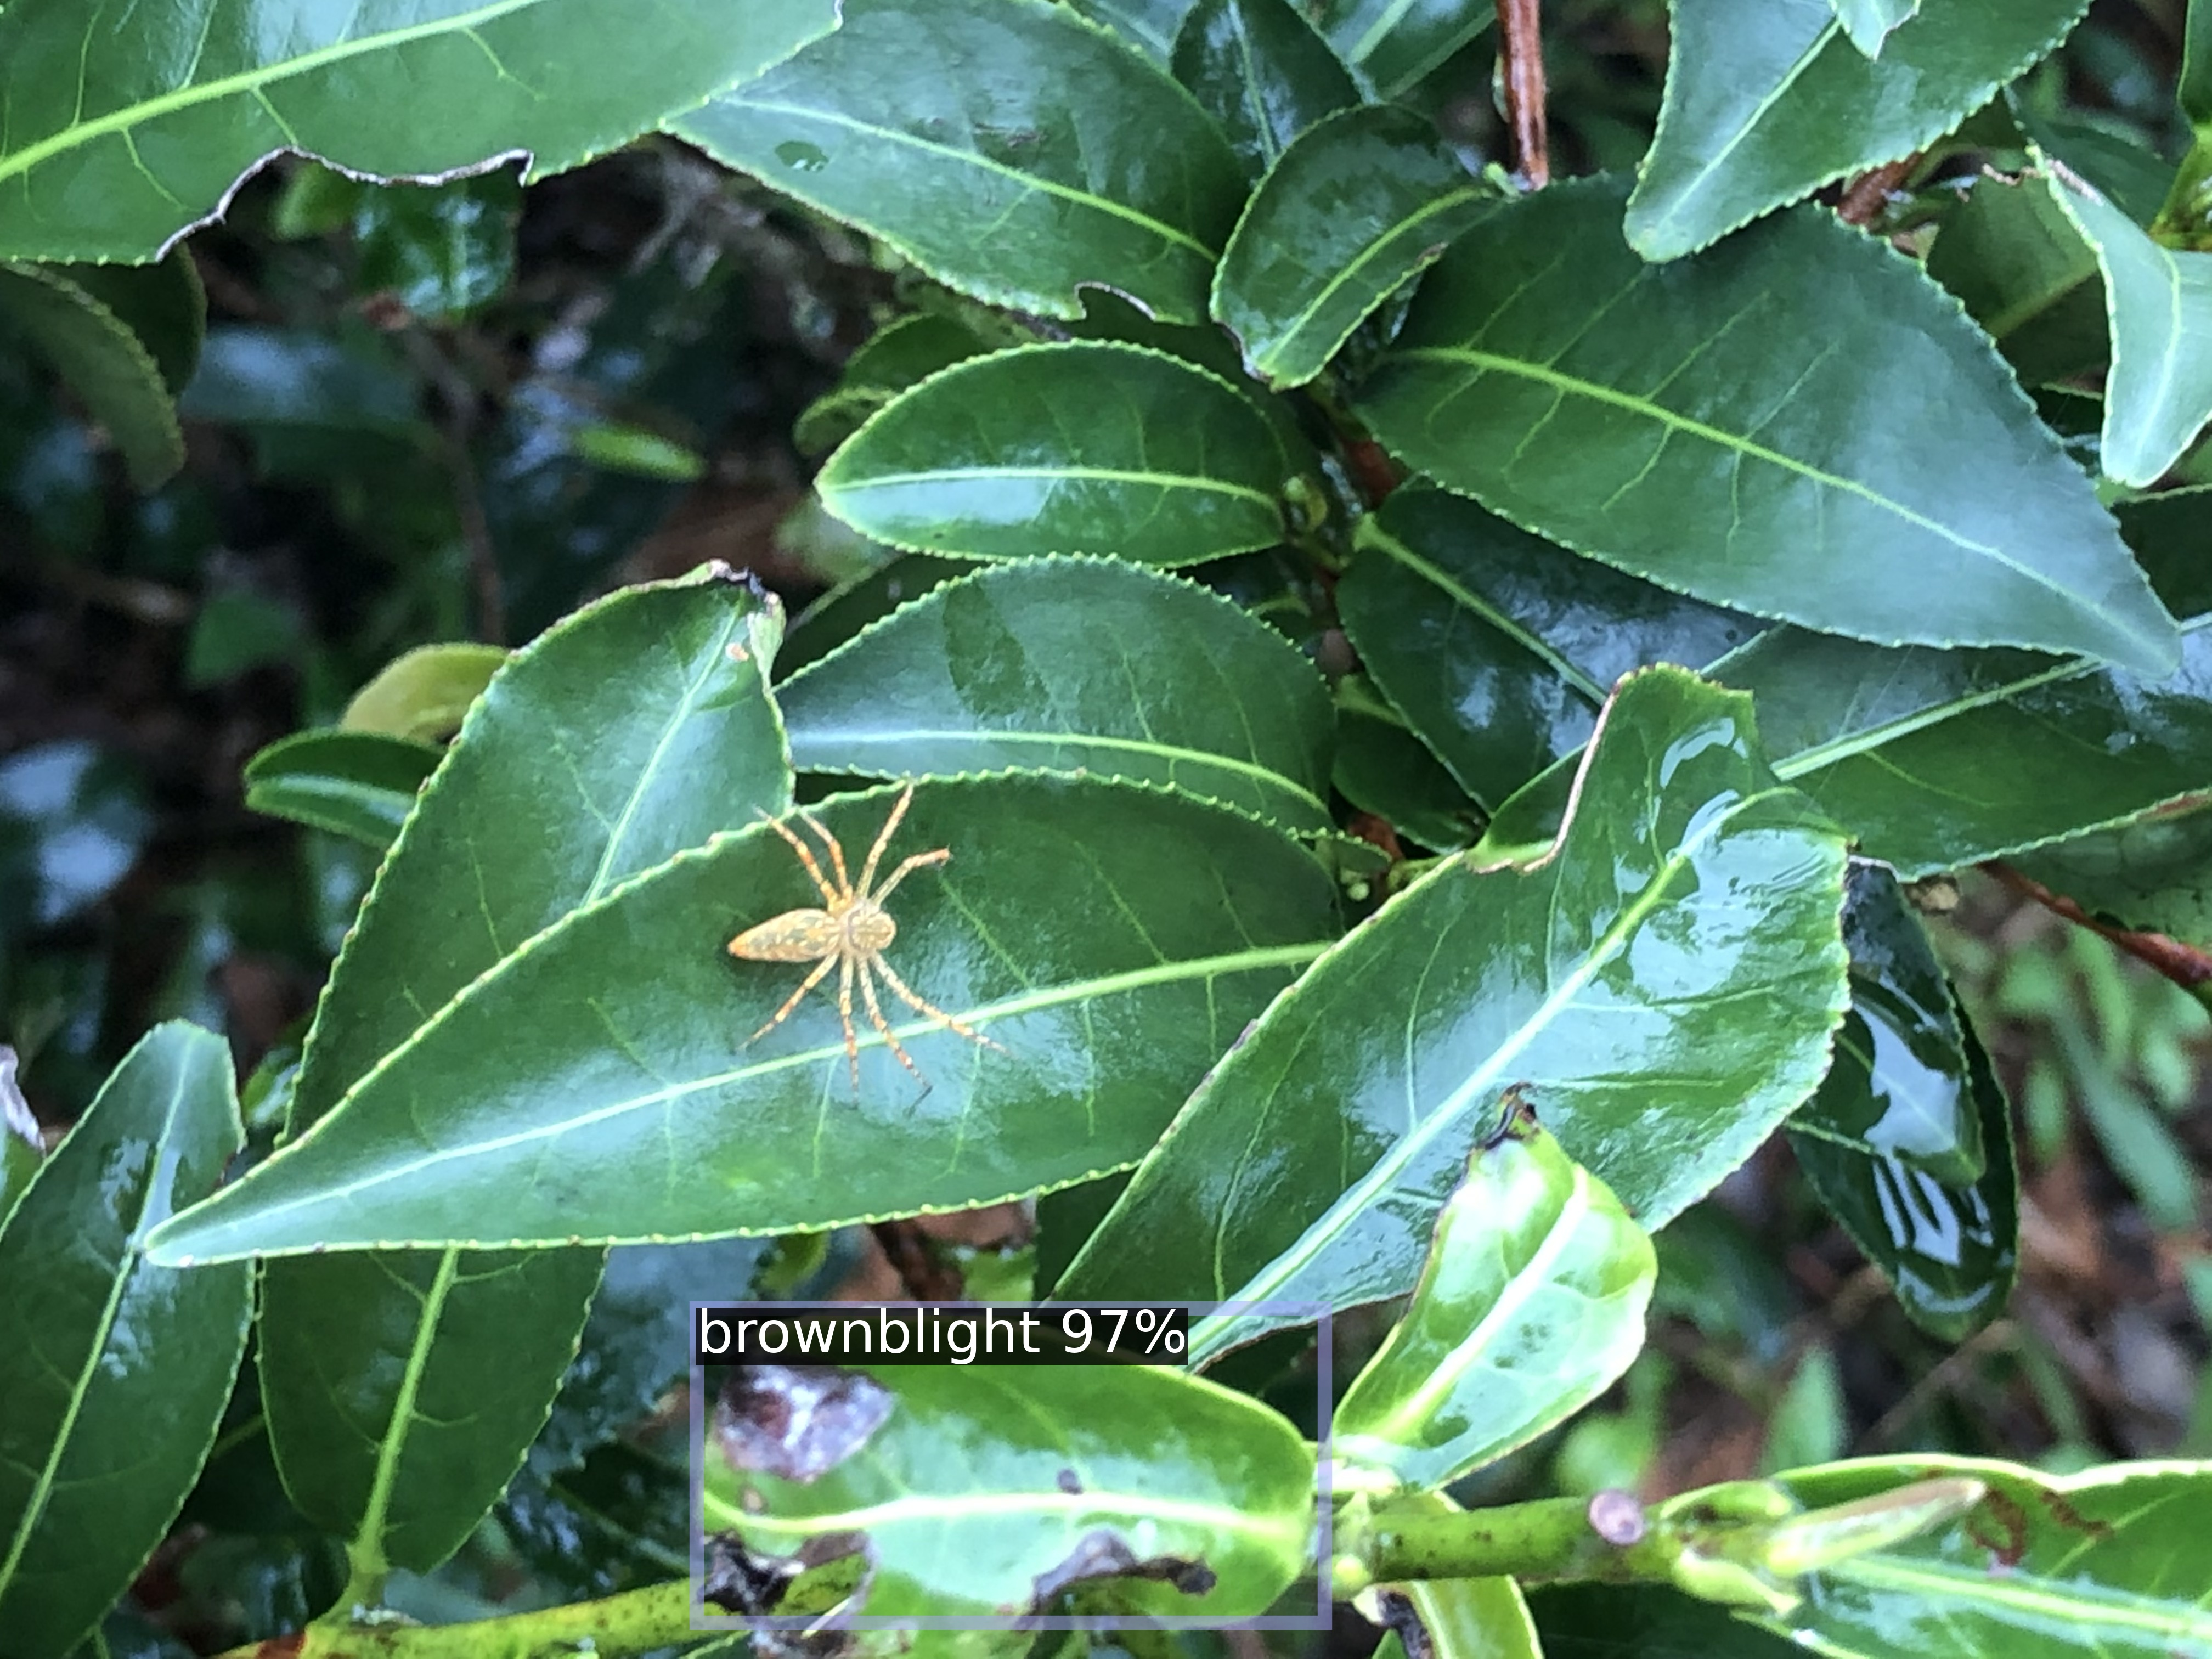brownblight: (697, 1309, 1324, 1622)
